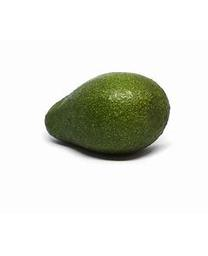avocado: (44, 72, 171, 156)
